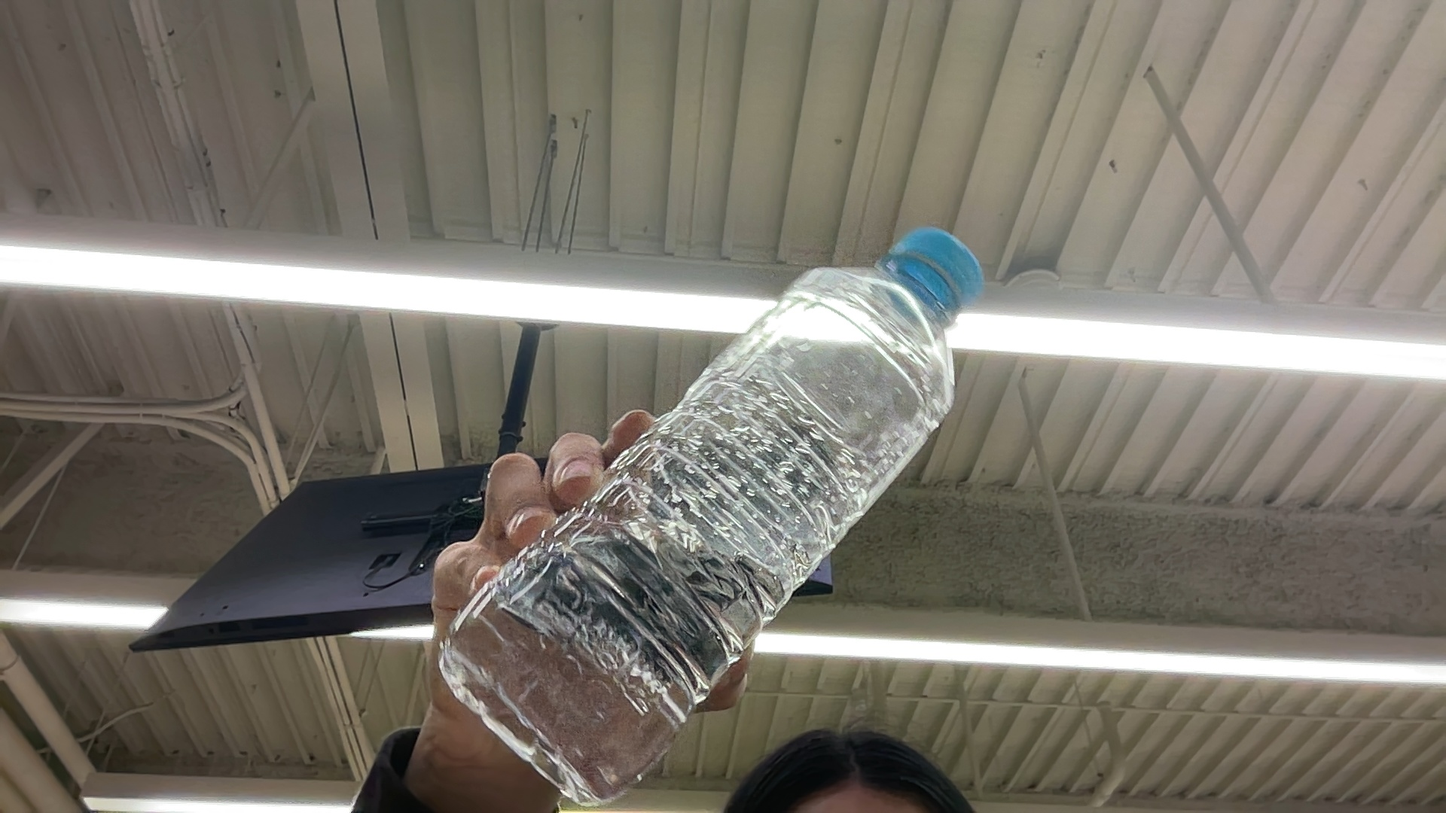Plastic: (876, 229, 984, 313)
